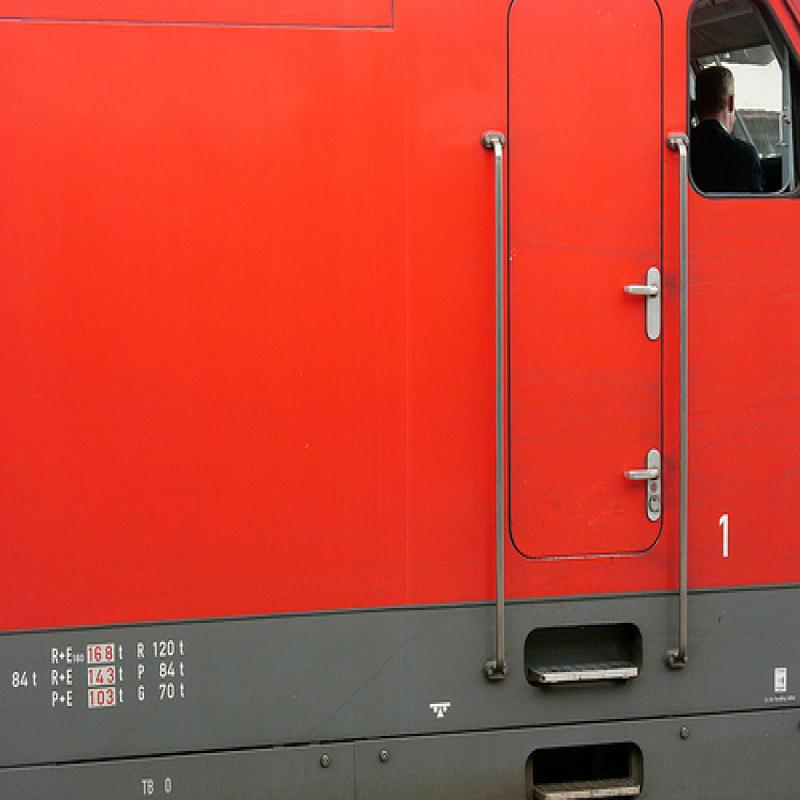train: (1, 1, 796, 799)
